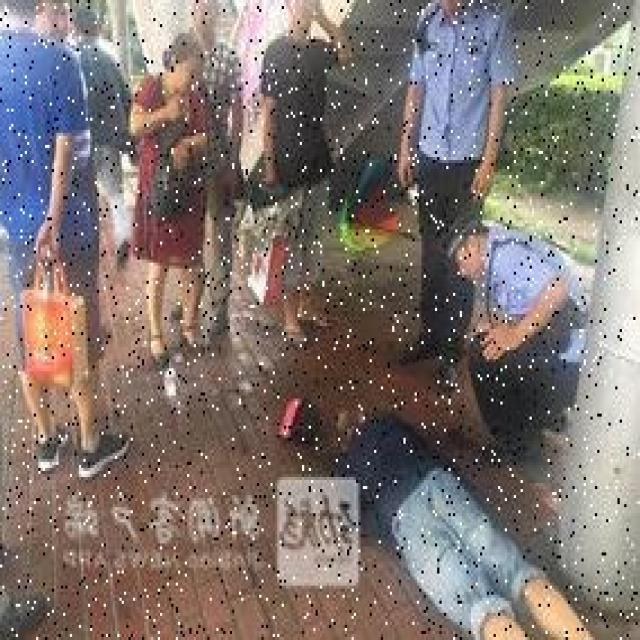fall: (338, 401, 604, 637)
